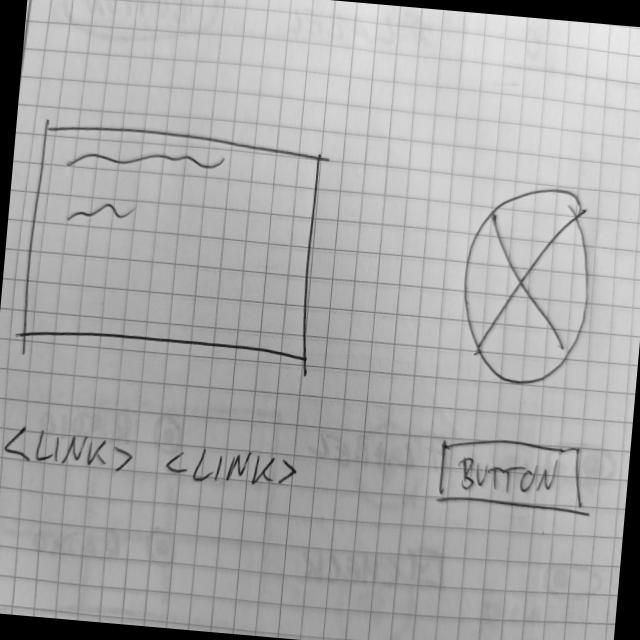button: (430, 430, 591, 518)
image: (452, 180, 600, 394)
link: (2, 421, 136, 476), (160, 442, 301, 490)
textarea: (17, 118, 327, 372)
